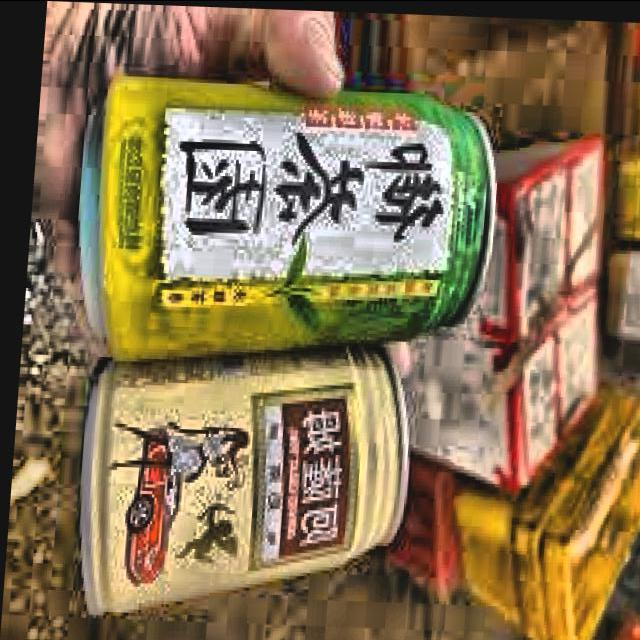litter: (45, 58, 501, 380), (61, 324, 416, 629)
